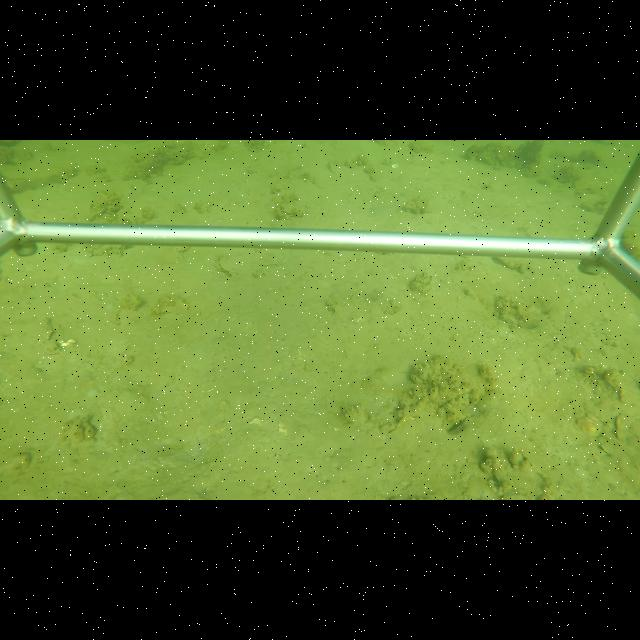Oyster-Closed: (213, 256, 238, 277)
Oyster-Open: (443, 414, 473, 437)
